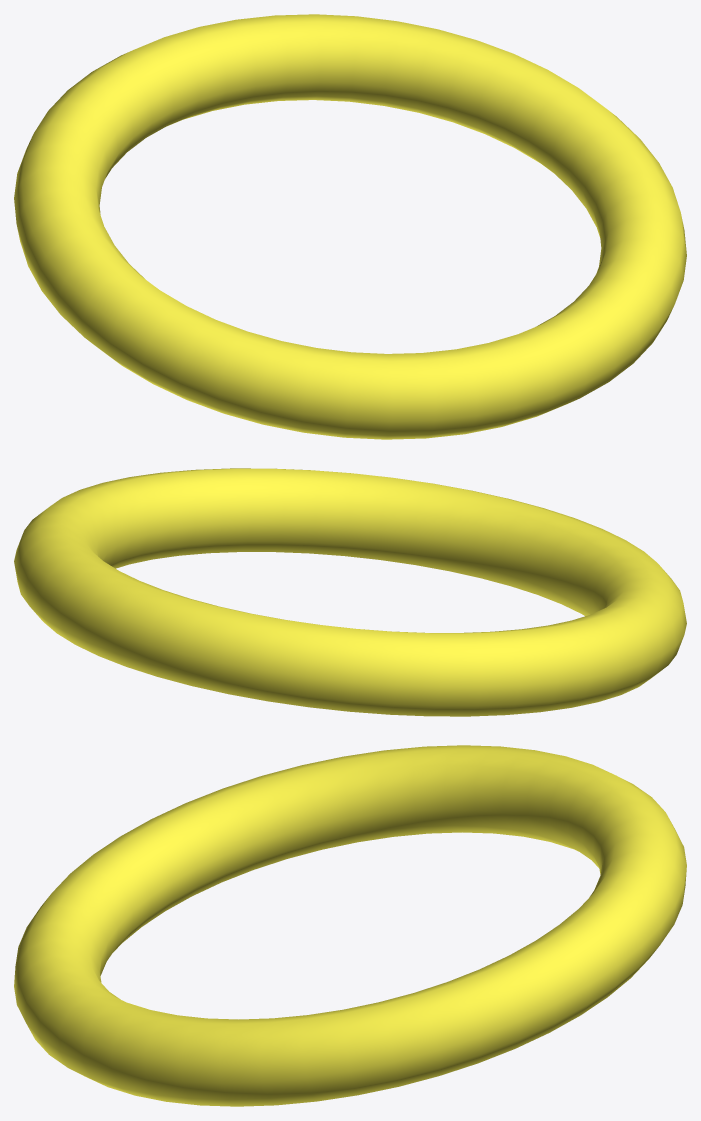
Rendered from Extra_Nimbus.fbx.
The picture shows the model from 3 angles, top to bottom: view 1: azimuth 30°, elevation 25°; view 2: azimuth 150°, elevation 25°; view 3: azimuth 270°, elevation 25°; orthographic projection.
Parts seen in each view (by area): view 1: Nimbus; view 2: Nimbus; view 3: Nimbus.
Part boxes in pixels (box(x1,y1,x2,y2)): Nimbus: box(14, 14, 686, 439); Nimbus: box(14, 468, 686, 716); Nimbus: box(14, 745, 686, 1106).
Bounding box in the file's own units: 1.08 × 1.1 × 0.3242.
